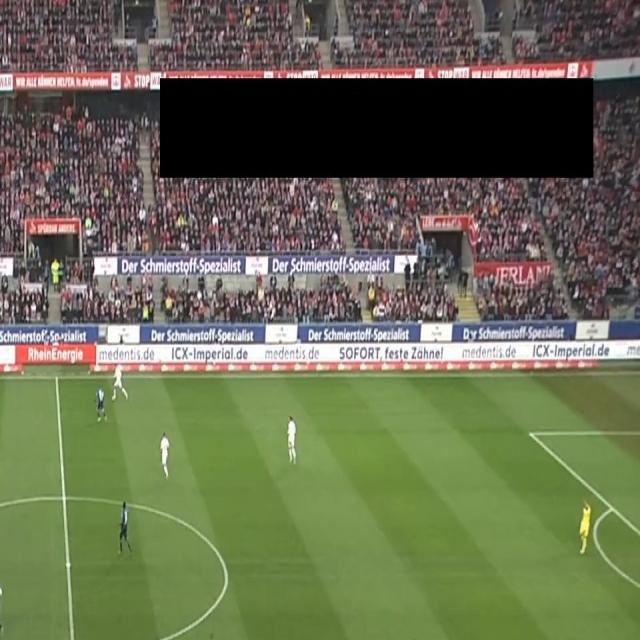ball: (111, 394, 116, 402)
